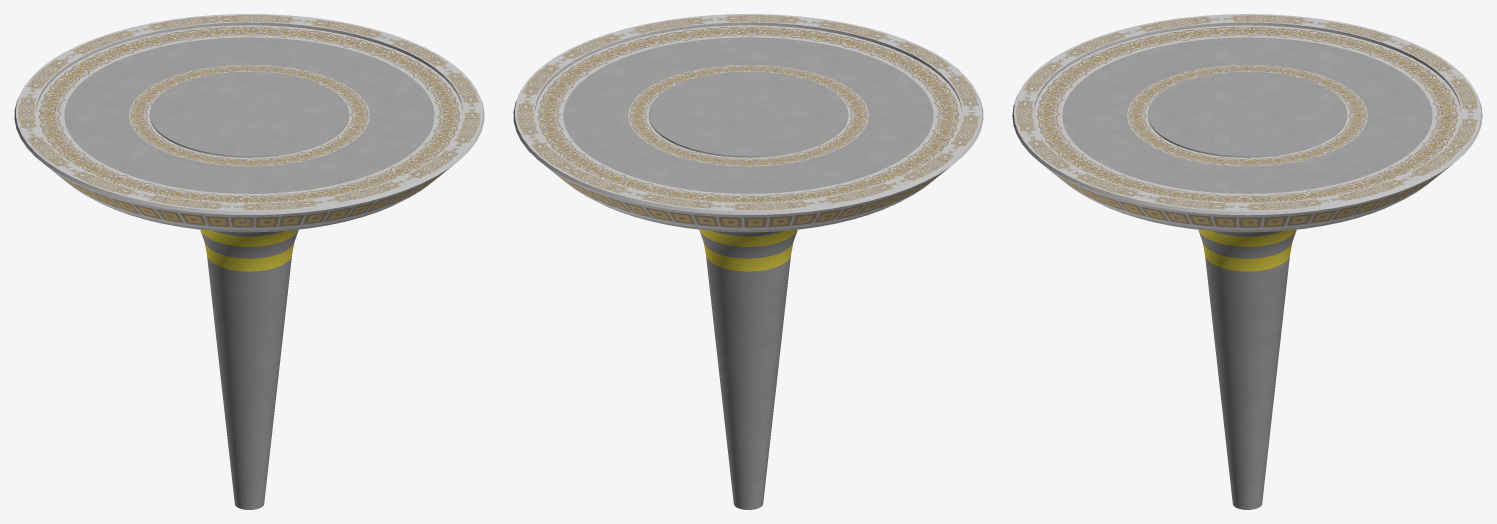
File: SM_circular_module_02.glb
3 renders of one model, left to right at view 1: azimuth 30°, elevation 25°; view 2: azimuth 150°, elevation 25°; view 3: azimuth 270°, elevation 25°, orthographic.
Visible parts, largest first — view 1: SM_circular_module_02; view 2: SM_circular_module_02; view 3: SM_circular_module_02.
Part boxes in pixels (x1,y1,x2,y2): SM_circular_module_02: (14,14,484,509); SM_circular_module_02: (513,14,983,509); SM_circular_module_02: (1012,14,1482,509).
Bounding box in the file's own units: 18.39 × 16.87 × 18.39.
Materials: 4 (4 with a texture image).
